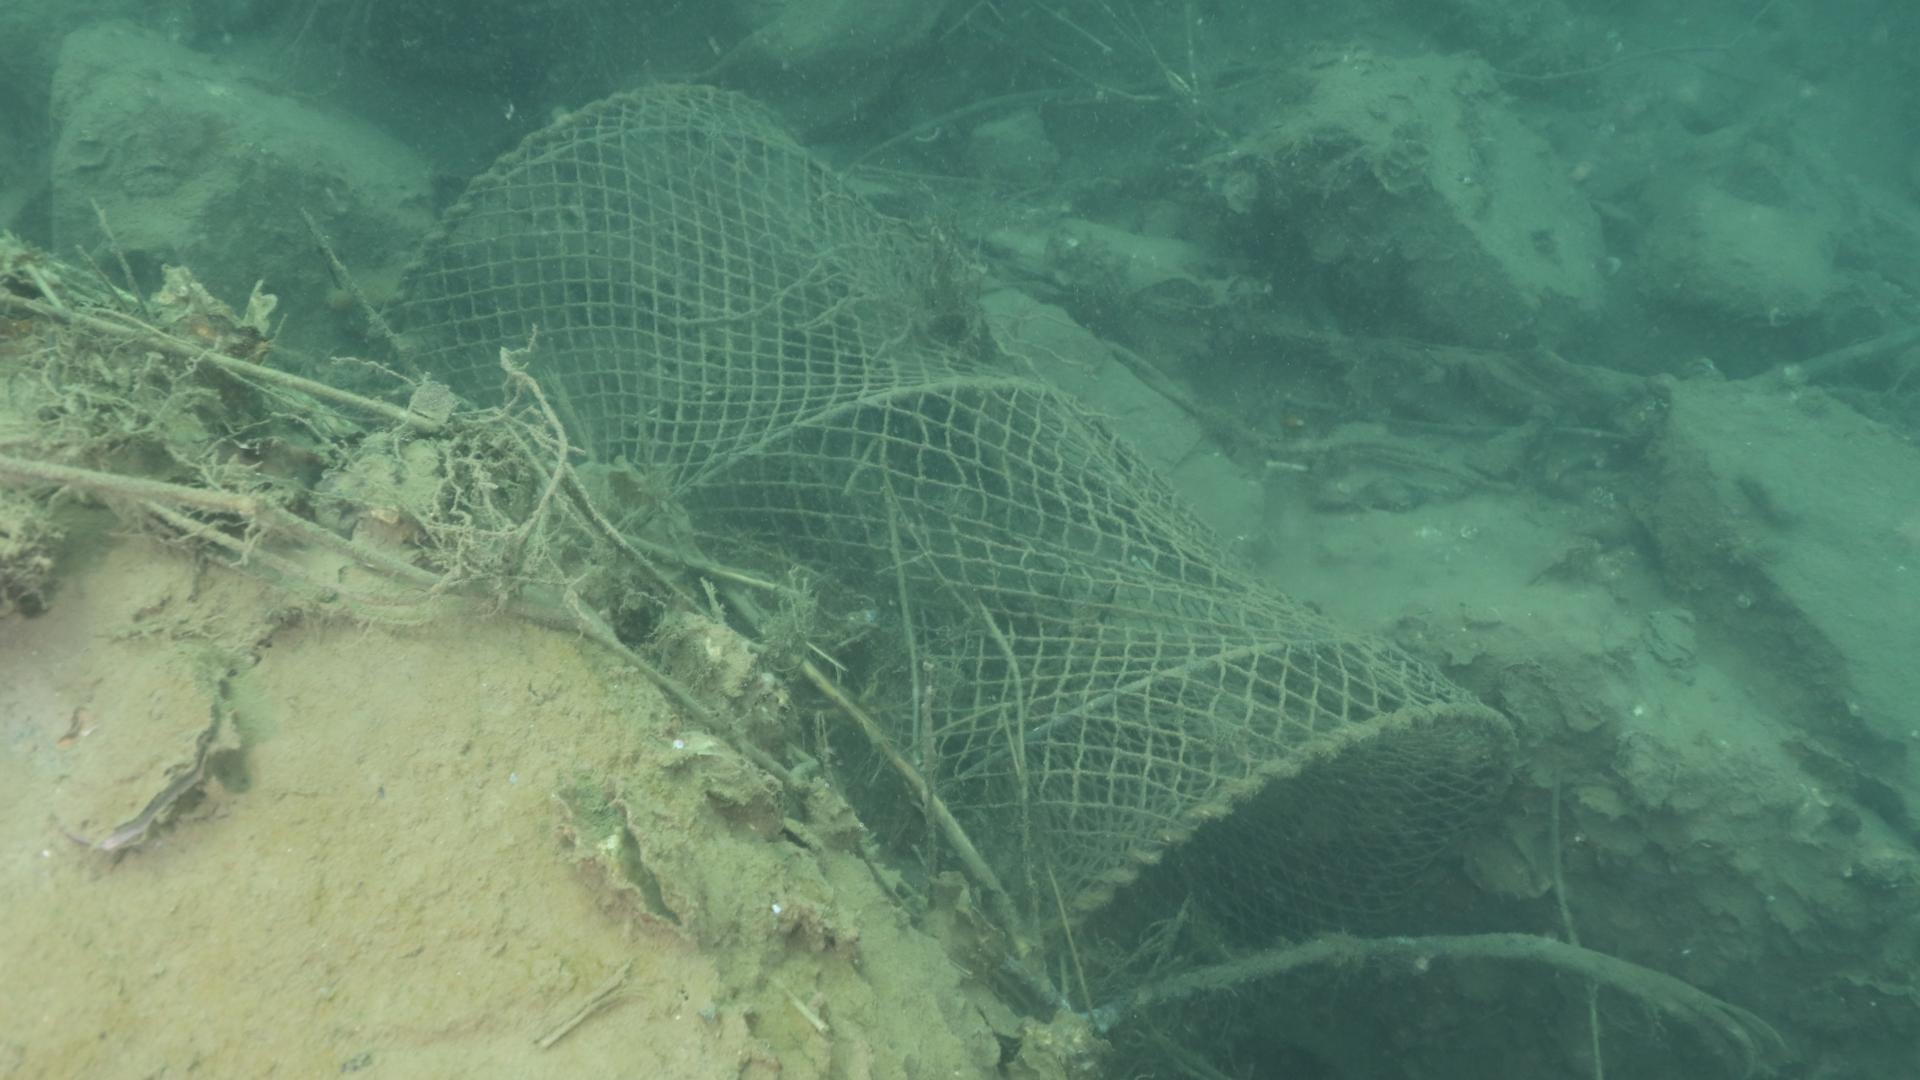spring fish trap: (363, 80, 1520, 1051)
